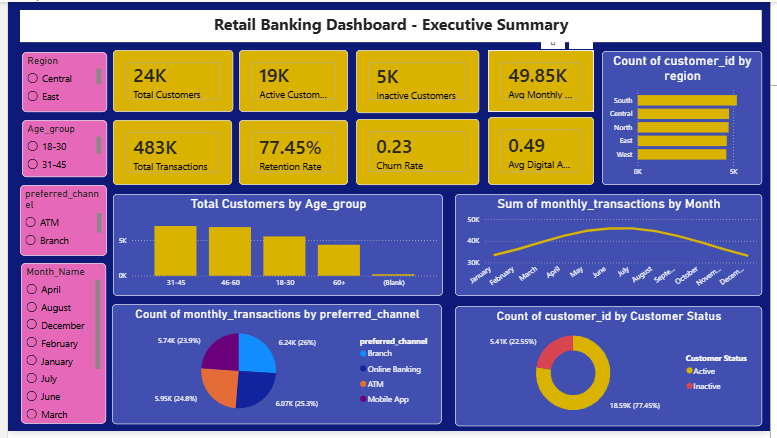

What the dashboard file says about the page in this screenshot:
{"tool":"powerbi","page":{"name":"Executive Summary","canvas":[1280,720],"ordinal":0},"visuals":[{"type":"cardVisual","fields":{"Data":["merged_retail_banking - Copy.Total Cunstomers"]},"box":[176.4,80.6,201.6,104.1],"z":0},{"type":"cardVisual","fields":{"Data":["merged_retail_banking.Active Customers"]},"box":[388,80.6,183.1,104.1],"z":1000},{"type":"cardVisual","fields":{"Data":["merged_retail_banking.Inactive Customers"]},"box":[584.6,80.6,206.6,105.8],"z":2000},{"type":"cardVisual","fields":{"Data":["merged_retail_banking.Avg Monthly Balance"]},"box":[806.3,80.6,178.1,104.1],"z":3000},{"type":"cardVisual","fields":{"Data":["merged_retail_banking.Total Transactions"]},"box":[176.4,198.2,199.9,109.2],"z":4000},{"type":"cardVisual","fields":{"Data":["merged_retail_banking.Average Digital Adoption"]},"box":[806.3,193.2,178.1,114.2],"z":5000},{"type":"cardVisual","fields":{"Data":["merged_retail_banking.Retention Rate"]},"box":[388,198.2,183.1,109.2],"z":6000},{"type":"cardVisual","fields":{"Data":["merged_retail_banking.Churn Rate"]},"box":[584.6,196.5,206.6,110.9],"z":7000},{"type":"clusteredBarChart","fields":{"Category":["merged_retail_banking.region"],"Y":["CountNonNull(merged_retail_banking.customer_id)"]},"box":[997.8,82.3,268.8,225.1],"z":8000},{"type":"donutChart","fields":{"Category":["merged_retail_banking.Customer Status"],"Y":["CountNonNull(merged_retail_banking.customer_id)"]},"box":[750.9,510.7,515.7,201.6],"z":9000},{"type":"pieChart","fields":{"Category":["merged_retail_banking.preferred_channel"],"Y":["CountNonNull(merged_retail_banking.monthly_transactions)"]},"box":[174.7,507.3,554.3,201.6],"z":10000},{"type":"lineChart","fields":{"Category":["merged_retail_banking.month.Variation.Date Hierarchy.Month"],"Y":["Sum(merged_retail_banking.monthly_transactions)"]},"box":[750.9,322.5,515.7,171.3],"z":11000},{"type":"columnChart","fields":{"Category":["merged_retail_banking.Age_group"],"Y":["merged_retail_banking.Total Customers"]},"box":[176.4,322.5,554.3,171.3],"z":12000},{"type":"listSlicer","title":"Region","fields":{"Values":["merged_retail_banking.region"]},"box":[23.5,84,142.8,100.8],"z":13000},{"type":"listSlicer","fields":{"Values":["merged_retail_banking.Age_group"]},"box":[23.5,198.2,142.8,95.7],"z":14000},{"type":"listSlicer","fields":{"Values":["merged_retail_banking.preferred_channel"]},"box":[20.2,307.4,146.1,119.3],"z":15000},{"type":"listSlicer","fields":{"Values":["merged_retail_banking.Month_Name"]},"box":[21.8,438.4,142.8,270.4],"z":16000},{"type":"textbox","box":[20.2,13.4,1246.4,53.8],"z":17000}]}

Visuals, with their boxes in screenshot pixels (x1, y1, x2, y2), scaled from the page's 1280x720 canvas onto the 777x438 screenshot:
cardVisual - merged_retail_banking - Copy.Total Cunstomers: bbox(107, 49, 229, 112)
cardVisual - merged_retail_banking.Active Customers: bbox(236, 49, 347, 112)
cardVisual - merged_retail_banking.Inactive Customers: bbox(355, 49, 480, 113)
cardVisual - merged_retail_banking.Avg Monthly Balance: bbox(489, 49, 598, 112)
cardVisual - merged_retail_banking.Total Transactions: bbox(107, 121, 228, 187)
cardVisual - merged_retail_banking.Average Digital Adoption: bbox(489, 118, 598, 187)
cardVisual - merged_retail_banking.Retention Rate: bbox(236, 121, 347, 187)
cardVisual - merged_retail_banking.Churn Rate: bbox(355, 120, 480, 187)
clusteredBarChart - merged_retail_banking.region x CountNonNull(merged_retail_banking.customer_id): bbox(606, 50, 769, 187)
donutChart - merged_retail_banking.Customer Status x CountNonNull(merged_retail_banking.customer_id): bbox(456, 311, 769, 433)
pieChart - merged_retail_banking.preferred_channel x CountNonNull(merged_retail_banking.monthly_transactions): bbox(106, 309, 443, 431)
lineChart - merged_retail_banking.month.Variation.Date Hierarchy.Month x Sum(merged_retail_banking.monthly_transactions): bbox(456, 196, 769, 300)
columnChart - merged_retail_banking.Age_group x merged_retail_banking.Total Customers: bbox(107, 196, 444, 300)
"Region" listSlicer: bbox(14, 51, 101, 112)
listSlicer - merged_retail_banking.Age_group: bbox(14, 121, 101, 179)
listSlicer - merged_retail_banking.preferred_channel: bbox(12, 187, 101, 260)
listSlicer - merged_retail_banking.Month_Name: bbox(13, 267, 100, 431)
textbox: bbox(12, 8, 769, 41)
